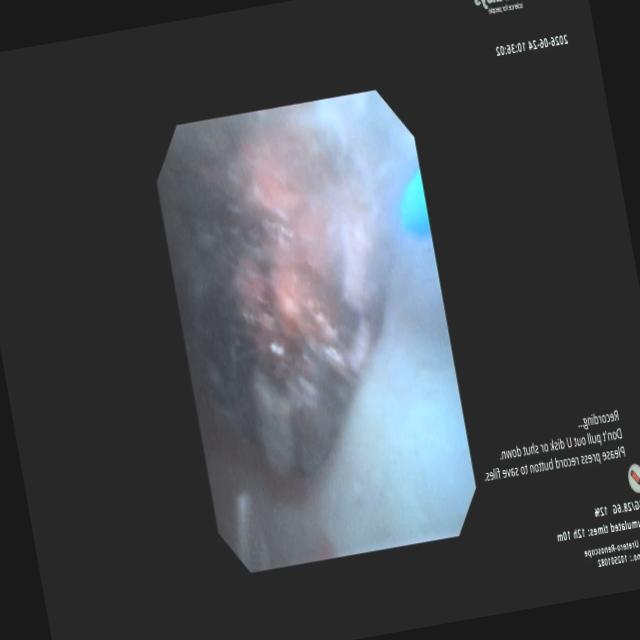stone-new: (158, 110, 389, 478)
